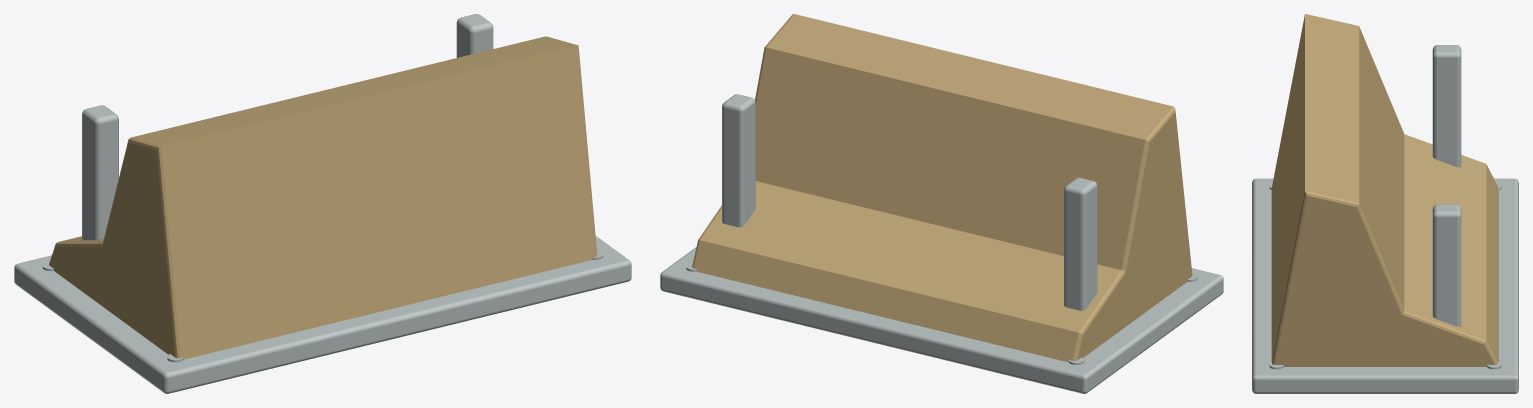
Rendered from abandoned-tidal-model-testing-hall-interchangeable-sea-00a3c917__32336.glb.
The picture shows the model from 3 angles, left to right: view 1: azimuth 30°, elevation 25°; view 2: azimuth 150°, elevation 25°; view 3: azimuth 270°, elevation 25°; orthographic projection. The views are drawn at different scales.
Visible parts, largest first — view 1: interchangeable-seawall-panel; view 2: interchangeable-seawall-panel; view 3: interchangeable-seawall-panel.
Part boxes in pixels (x1=…): interchangeable-seawall-panel: x1=14, y1=14, x2=631, y2=393; interchangeable-seawall-panel: x1=660, y1=14, x2=1223, y2=393; interchangeable-seawall-panel: x1=1252, y1=14, x2=1518, y2=393.
Bounding box in the file's own units: 1.15 × 0.5194 × 0.6501.
